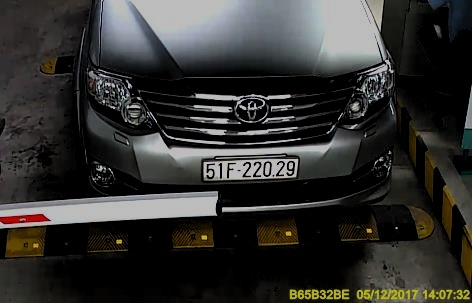plate: (197, 154, 298, 184)
